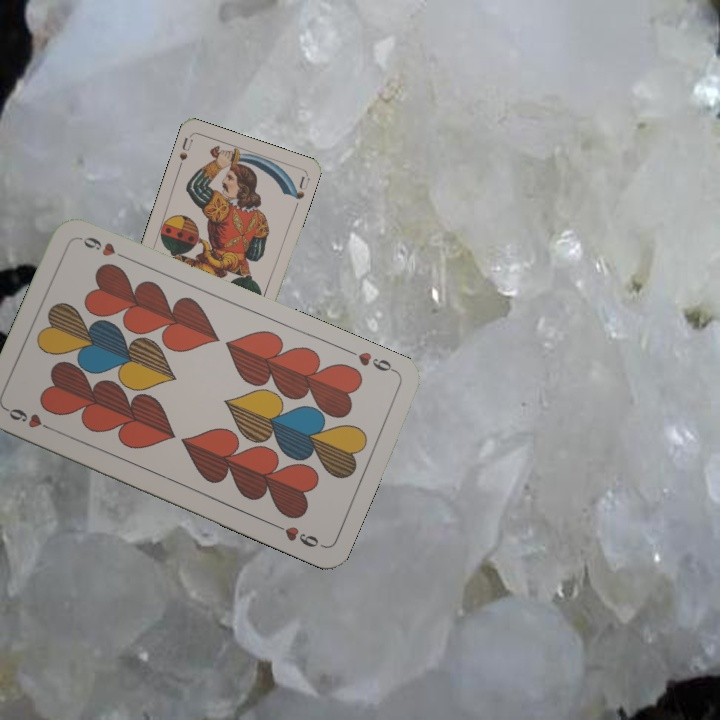H9: (343, 345, 399, 376), (3, 404, 58, 435)
SU: (174, 132, 196, 172)
